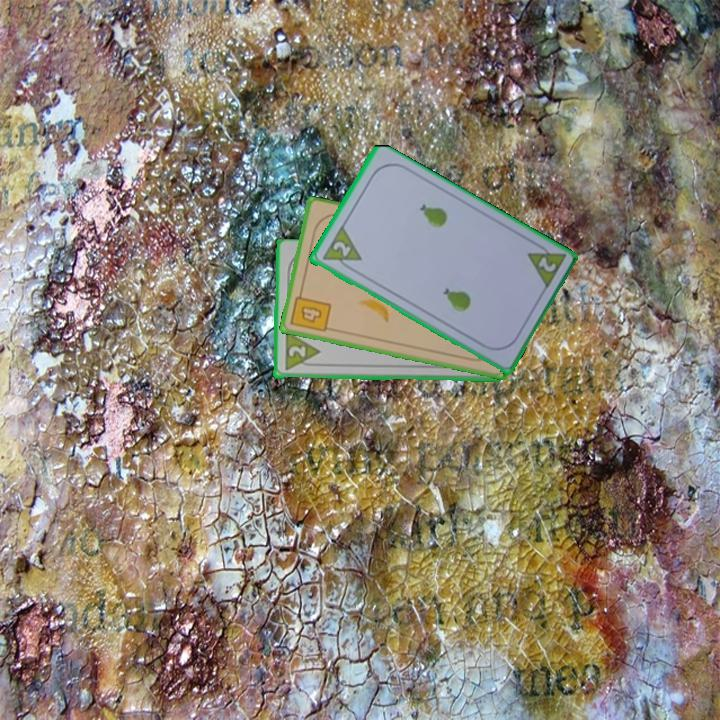2p: (523, 238, 568, 292), (318, 223, 364, 275), (281, 329, 322, 374)
4b: (287, 286, 334, 335)
